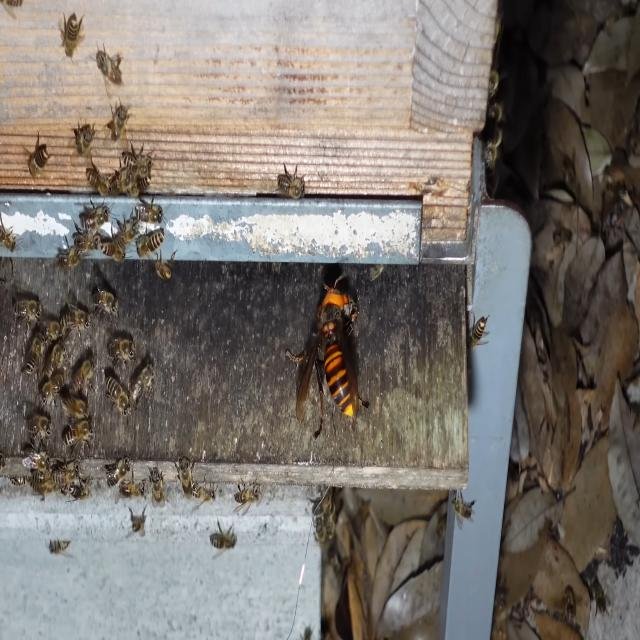Bees: (91, 42, 125, 93), (58, 8, 86, 63), (276, 160, 308, 204), (20, 330, 49, 378), (61, 302, 94, 343), (104, 374, 133, 419), (135, 195, 172, 230), (24, 132, 49, 183), (130, 360, 156, 406), (100, 231, 134, 266), (233, 478, 264, 516), (80, 199, 118, 230), (209, 518, 237, 559), (108, 96, 132, 143), (62, 418, 95, 452), (12, 297, 43, 333), (70, 219, 101, 254), (37, 373, 65, 411), (173, 454, 194, 504), (450, 488, 476, 528), (70, 353, 96, 393), (92, 286, 120, 323), (23, 412, 53, 446), (146, 462, 166, 512), (59, 235, 86, 272), (190, 475, 222, 506), (103, 456, 132, 490), (85, 162, 112, 198), (120, 147, 151, 178), (470, 306, 490, 354), (136, 226, 164, 260), (73, 121, 97, 159), (52, 458, 84, 486), (106, 336, 134, 367), (152, 250, 176, 284), (22, 448, 50, 476), (0, 222, 23, 255), (125, 505, 146, 540), (49, 335, 68, 371), (45, 536, 73, 560)
Hornets: (284, 271, 370, 440)
